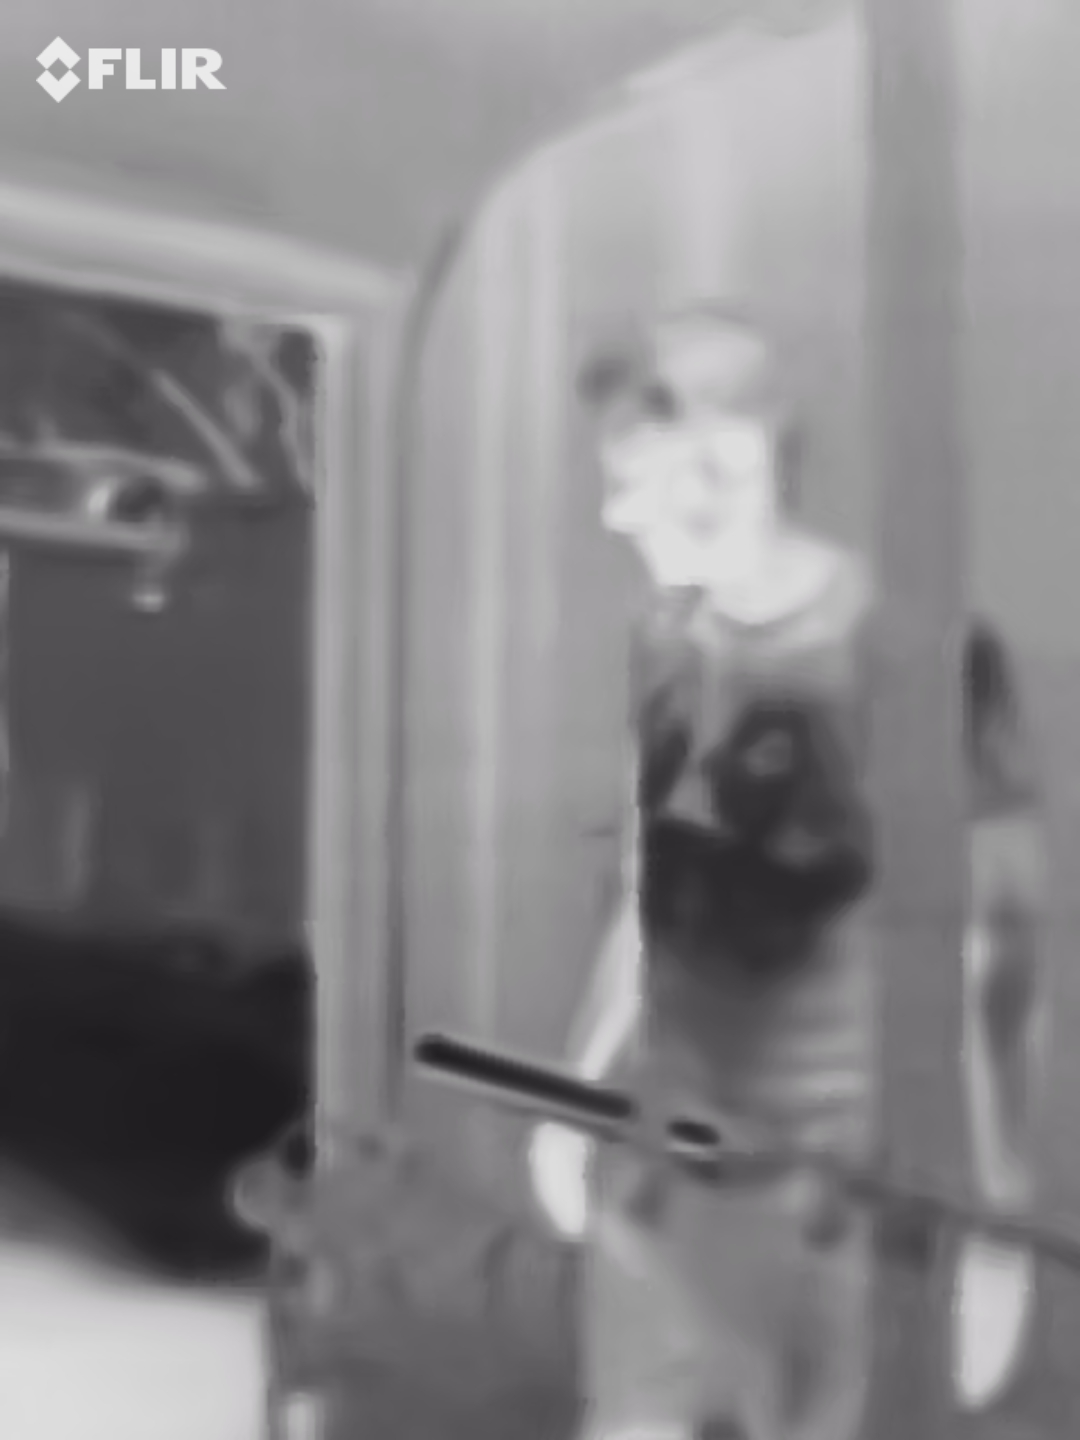head: (585, 312, 809, 591)
